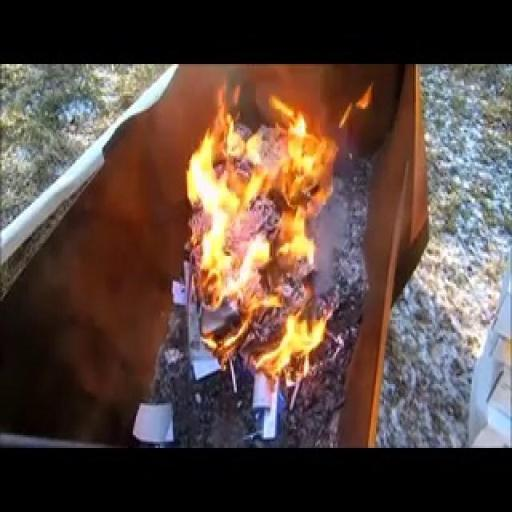smoke: (176, 63, 363, 381)
